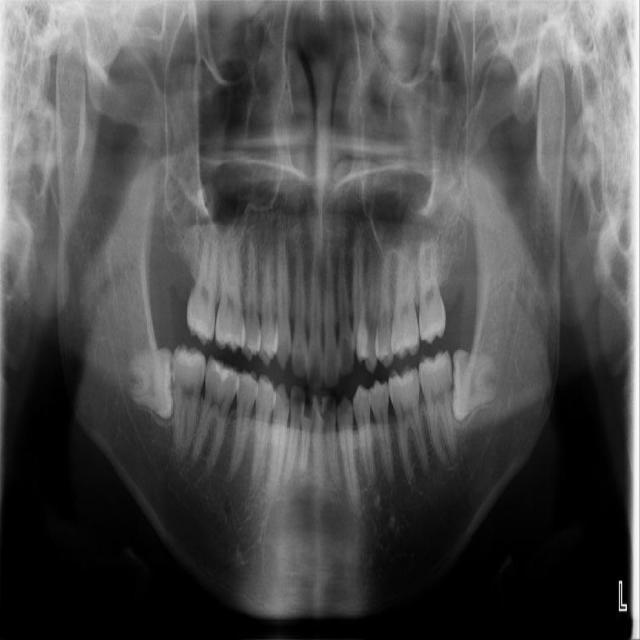52: (194, 355, 247, 409)
73: (615, 586, 624, 598)
BioHorizons Implant: (418, 234, 446, 346)
Biomet 3i Implant: (451, 348, 498, 422)
Blue Sky Bio Implant: (417, 348, 458, 465)
Caries: (184, 233, 220, 347)
Implant: (170, 343, 207, 461)
Keystone Dental Implant: (122, 347, 178, 422)
